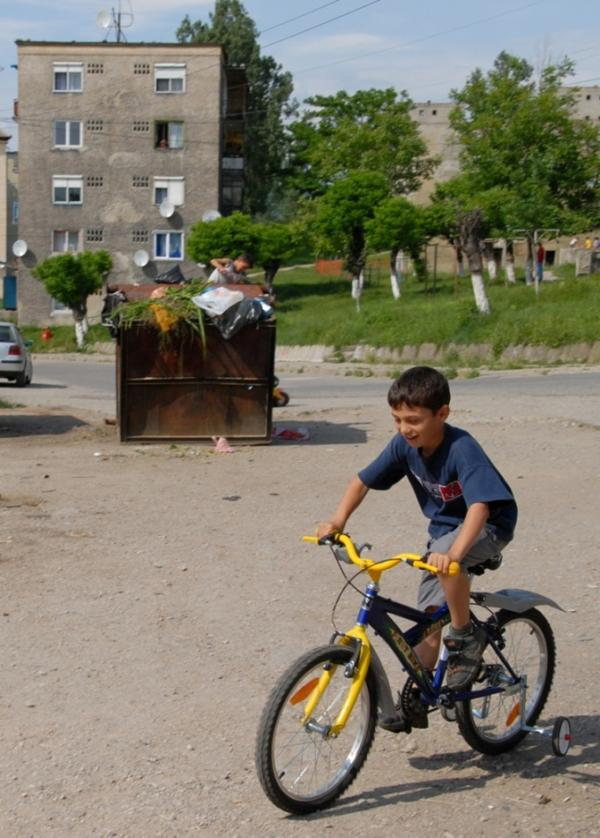person: (319, 364, 519, 733)
